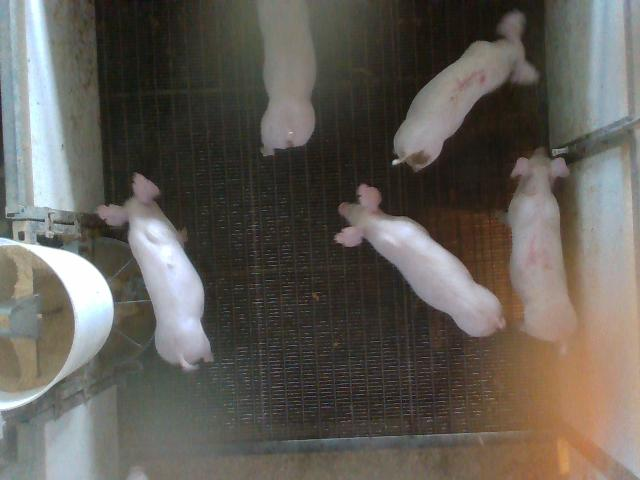pig-4: (508, 148, 576, 341)
pig-5: (392, 10, 539, 171)
